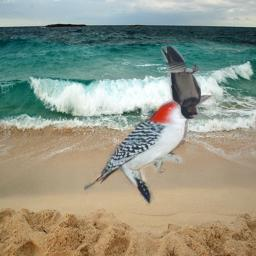Swallow: (161, 46, 201, 119)
Woodpecker: (84, 95, 212, 206)
